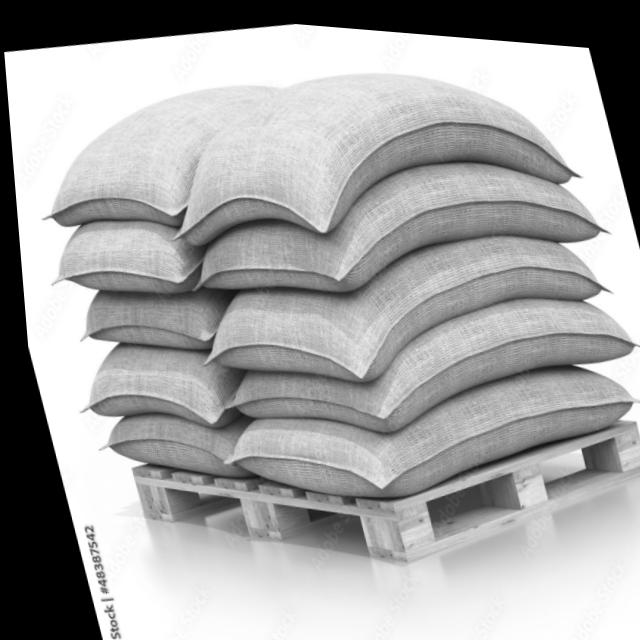sack: (127, 17, 591, 273), (167, 187, 625, 421), (158, 113, 619, 330), (196, 251, 640, 470), (198, 322, 640, 535), (10, 60, 309, 253), (55, 318, 248, 451), (29, 198, 205, 313), (61, 263, 238, 369), (82, 391, 253, 499)
